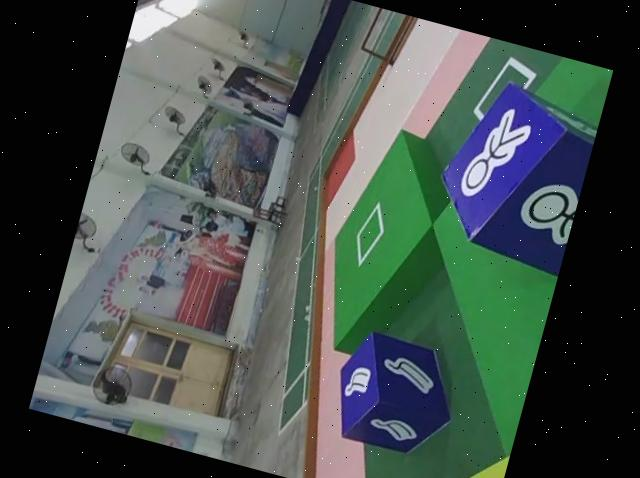R2 Real Blue: (424, 71, 603, 272), (323, 322, 469, 462)
